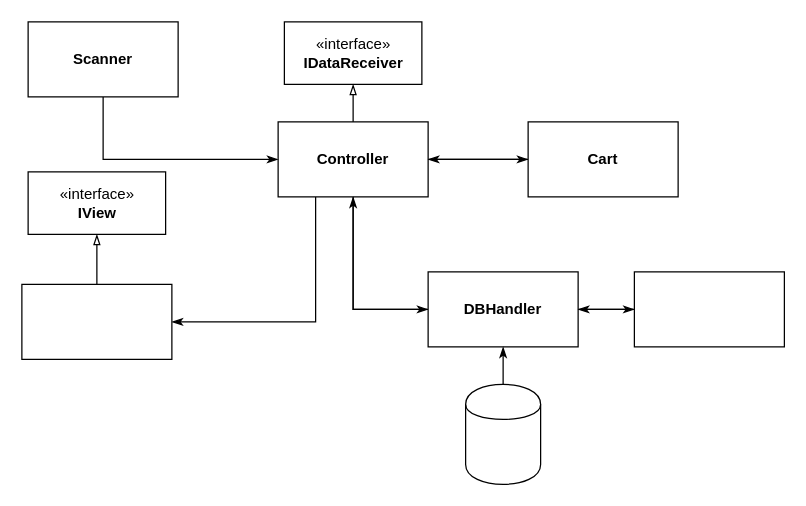
This 806x506 diagram has some shape labels left out. The shapes that lost their labels are listed below. From the top down, each one's centre as x and y in pixels, then its label:
At (96,321): "View".
At (708,309): "Product".
At (502,433): "DB".
